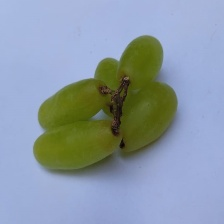grapes: (28, 58, 224, 200)
